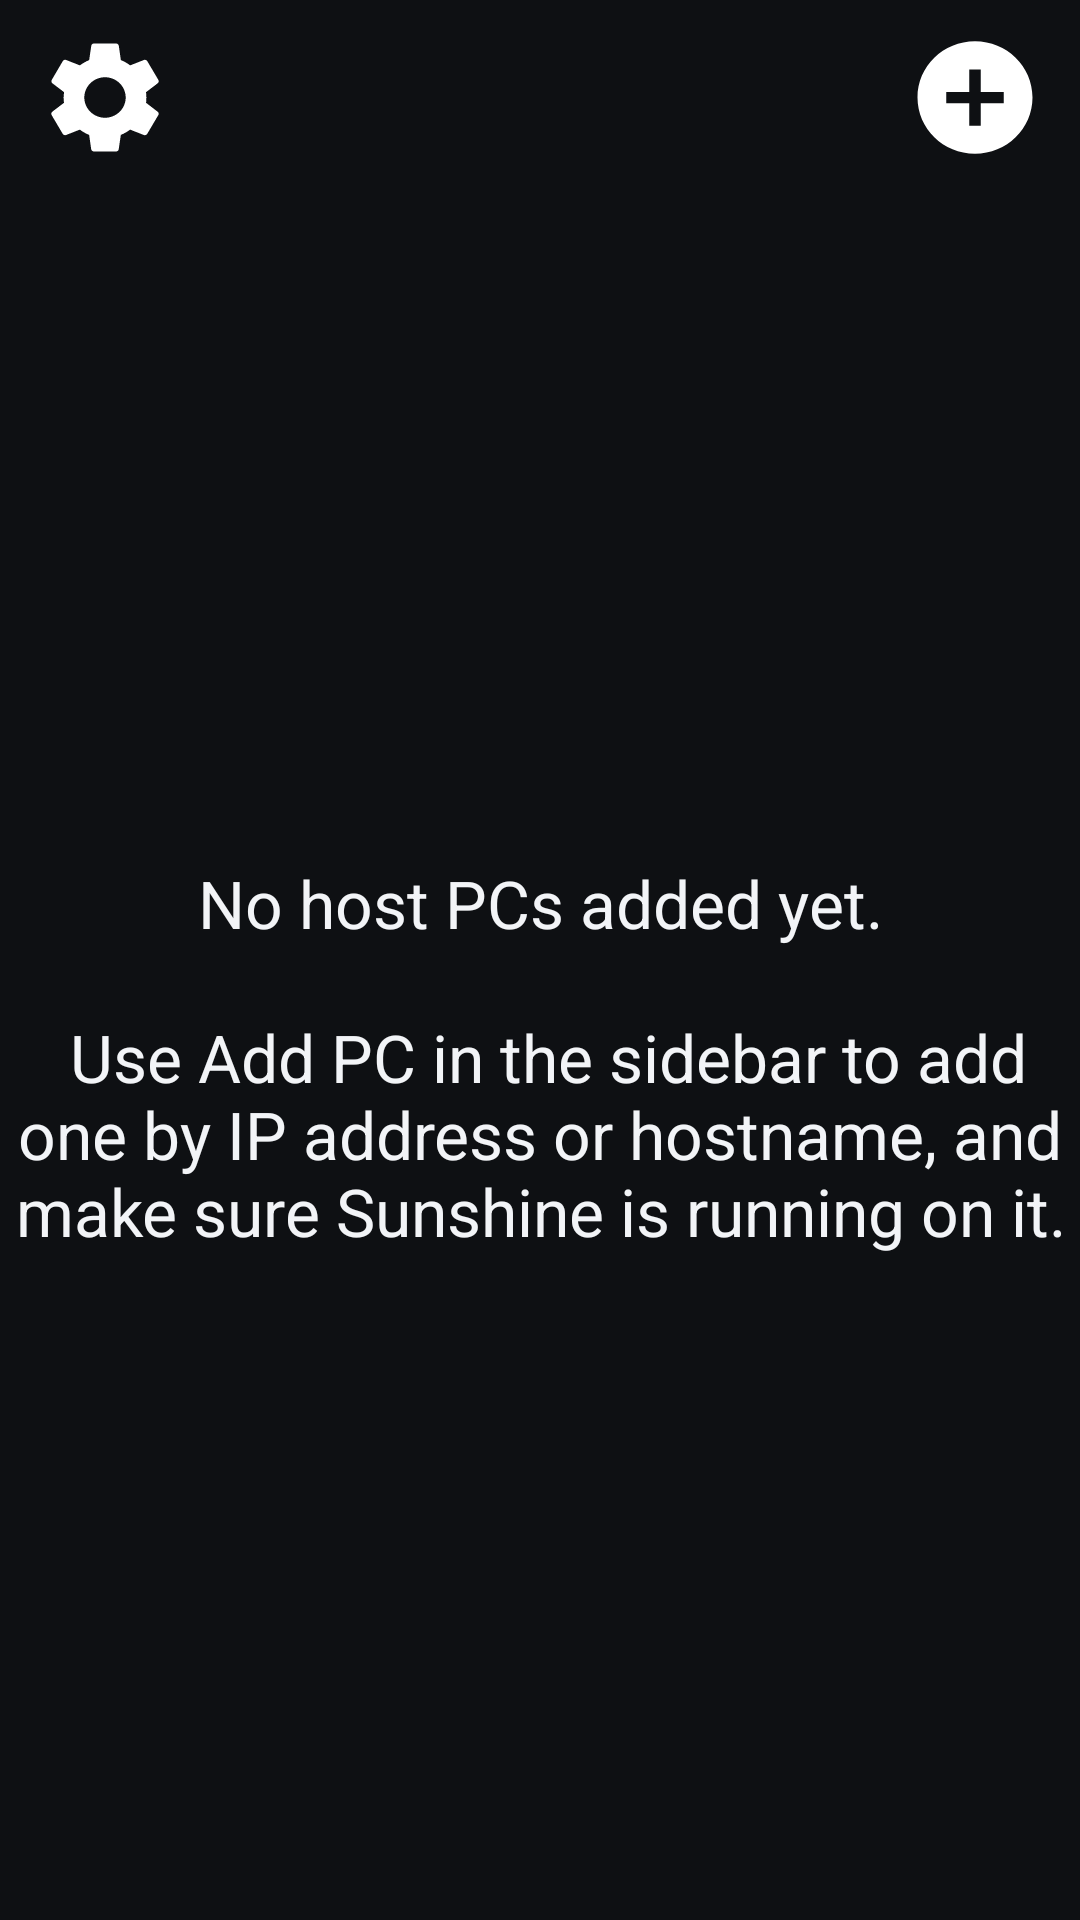

Where to tap for icons on this 1080w x 1920h app screen, as point (x, y):
Add PC Manually: point (975, 97)
Settings: point (105, 97)
